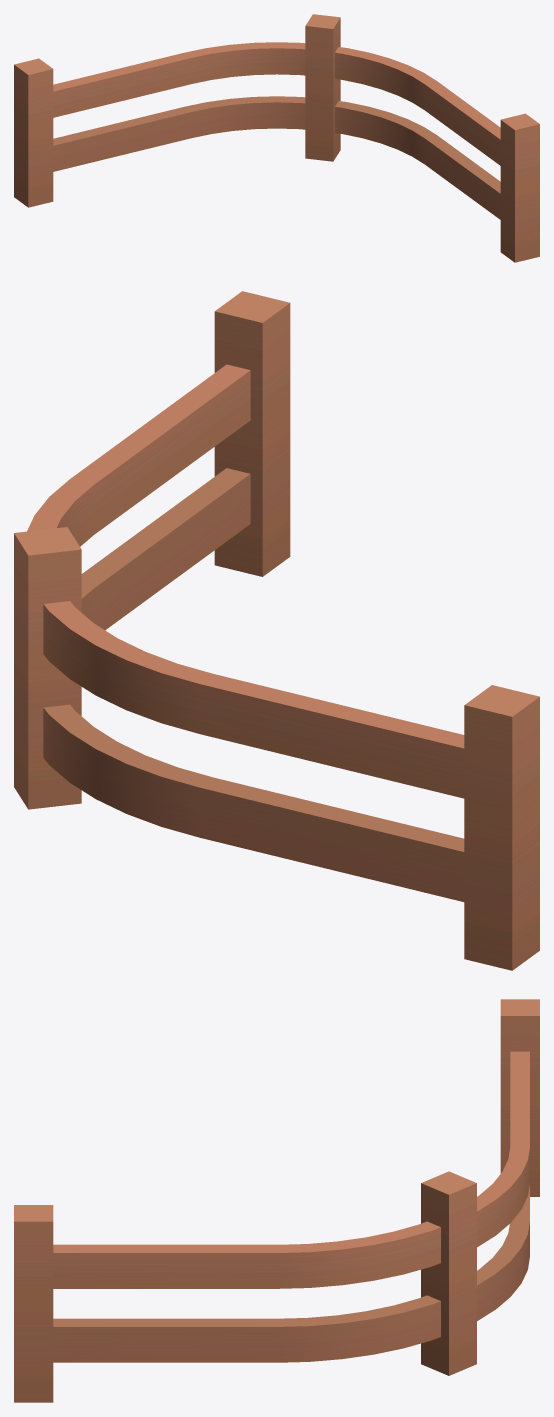
File: fence-curved.glb
The picture shows the model from 3 angles, top to bottom: view 1: azimuth 30°, elevation 25°; view 2: azimuth 150°, elevation 25°; view 3: azimuth 270°, elevation 25°; orthographic projection. The views are drawn at different scales.
Parts seen in each view (by area): view 1: fence-curved; view 2: fence-curved; view 3: fence-curved.
Boxes of the visible parts, x1,y1,x2,y2 form: fence-curved: [14, 14, 539, 262]; fence-curved: [14, 291, 539, 970]; fence-curved: [14, 999, 539, 1402].
Size of the model in its own units: 1 by 0.38 by 1.
Materials: 1 (1 with a texture image).
